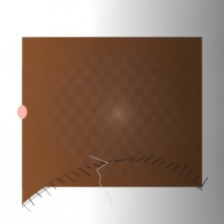foreign_body_visible: (124, 92, 171, 130)
